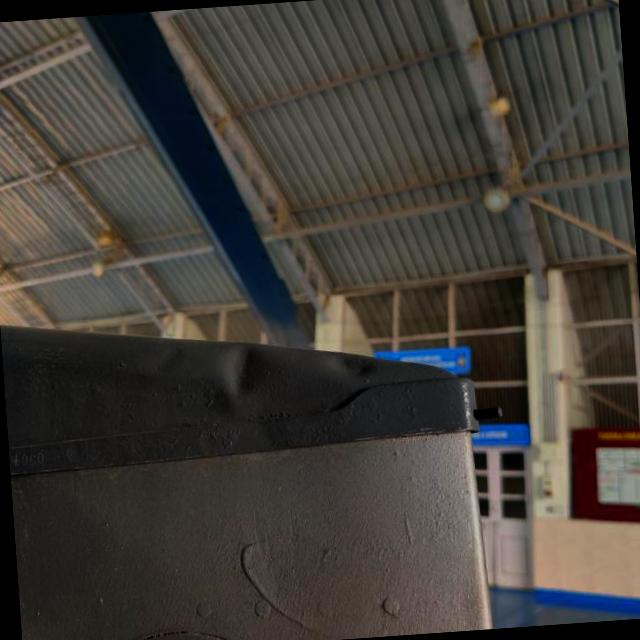dent: (214, 336, 274, 406), (326, 343, 380, 387)
